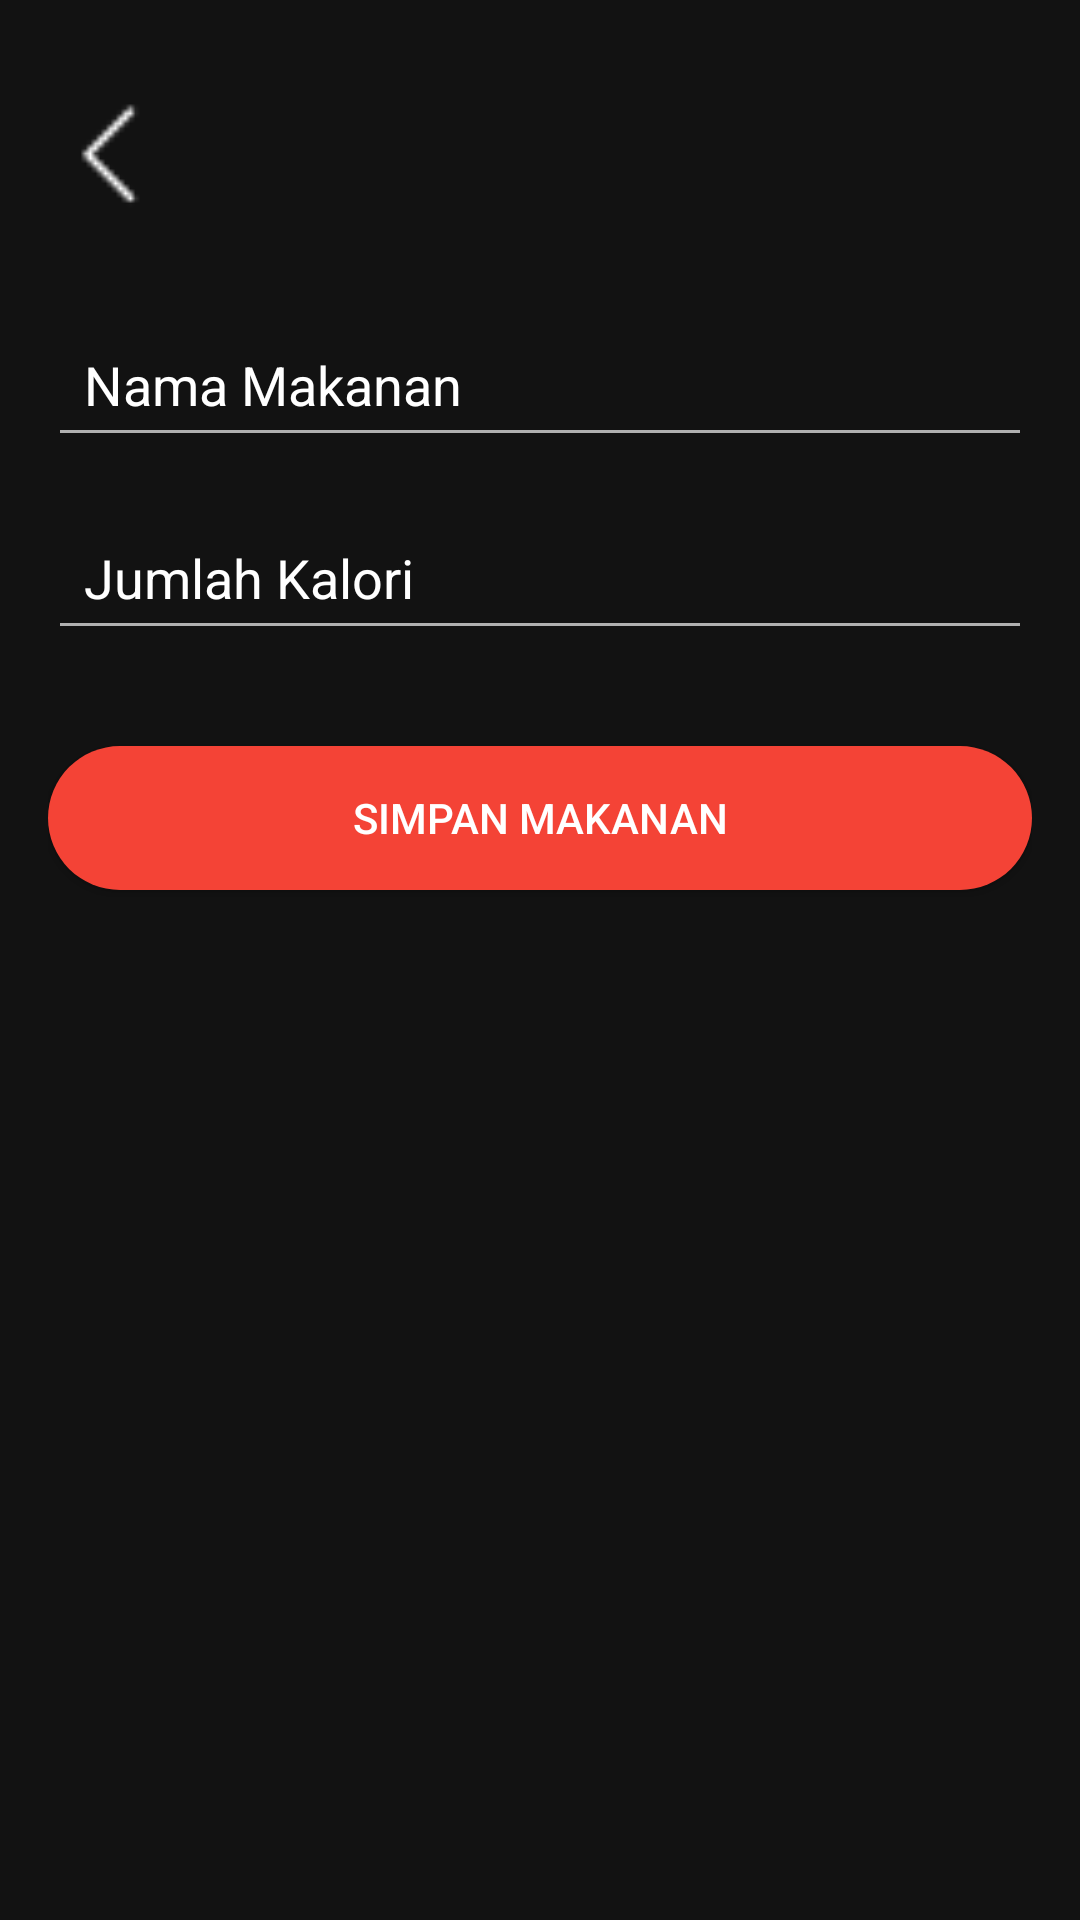

Named icons in this screenshot (1080w x 1920h) and their bounding boxes, (x1, y1, x2, y2):
Back: (81, 104, 137, 203)
